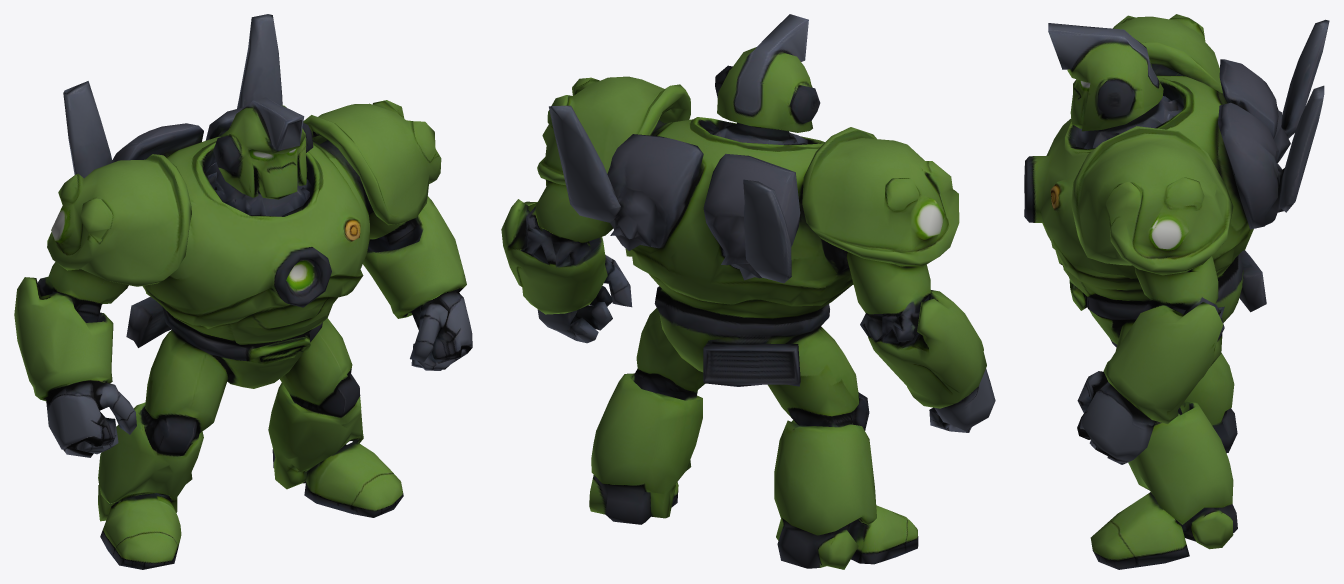
Rendered from bastion_fortress_guard.fbx.
The picture shows the model from 3 angles, left to right: view 1: azimuth 30°, elevation 25°; view 2: azimuth 150°, elevation 25°; view 3: azimuth 270°, elevation 25°; orthographic projection. The views are drawn at different scales.
Parts seen in each view (by area): view 1: tripo_node_3f2609cf; view 2: tripo_node_3f2609cf; view 3: tripo_node_3f2609cf.
Boxes of the visible parts, box(x1,y1,x2,y2) form: tripo_node_3f2609cf: box(14, 14, 472, 569); tripo_node_3f2609cf: box(501, 14, 995, 569); tripo_node_3f2609cf: box(1024, 14, 1329, 569).
Size of the model in its own units: 100 by 57.22 by 97.67.
Materials: 1 (1 with a texture image).
